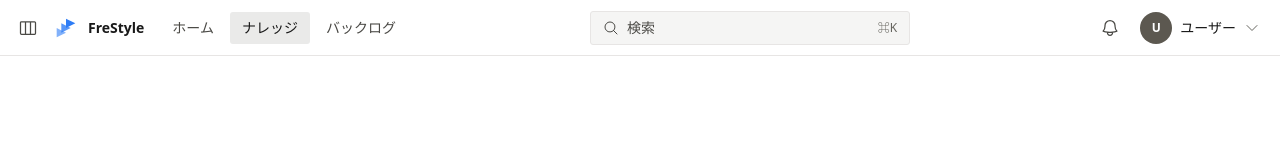
Test: Header › サイドバーの固定表示 / 一時表示を切り替えるボタン › 固定表示中にクリックすると一時表示に切り替わり、アイコン（ラベル）が☰に変わる
Click the button named "サイドバーを閉じる". click: (28,28)
box: left=12, top=12, right=44, bottom=44
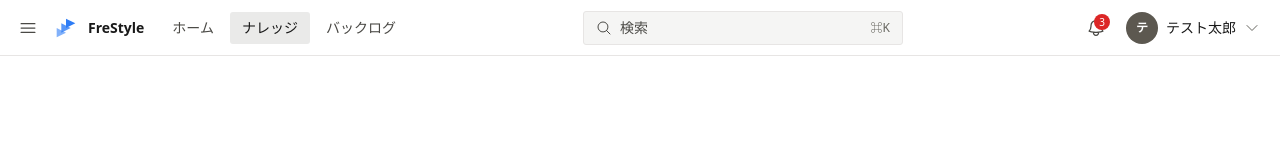
Result: the button named "サイドバーを固定表示する" is shown at left=12, top=12, right=44, bottom=44
